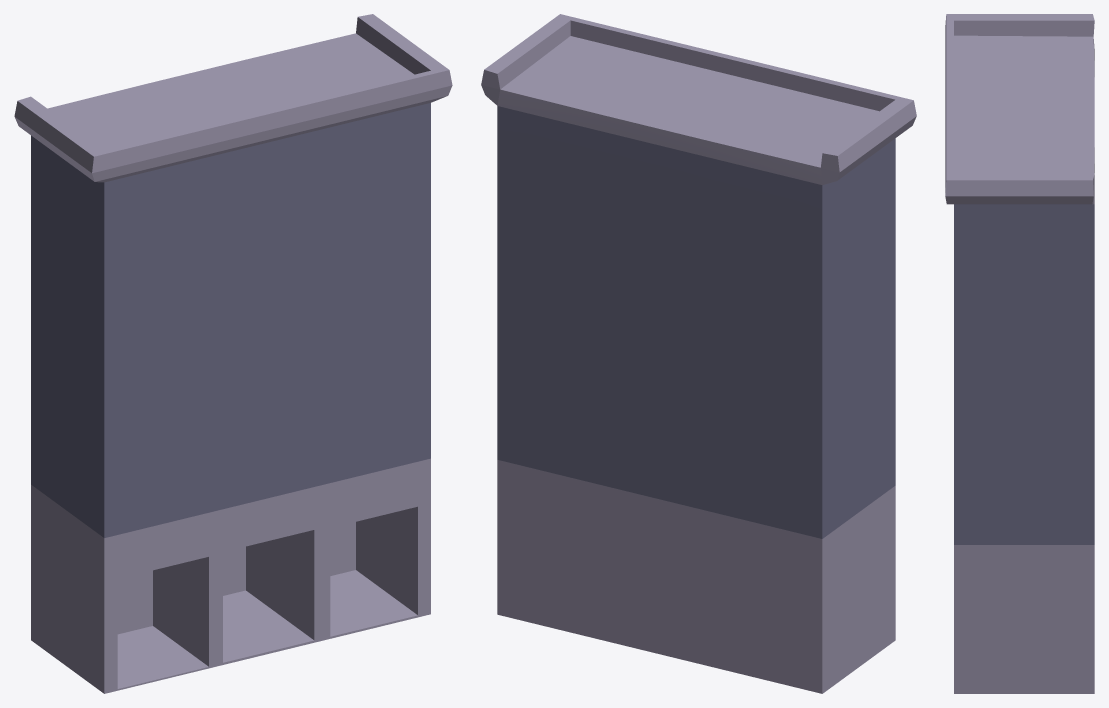
The model's file is builidng_base.fbx.
The picture shows the model from 3 angles, left to right: view 1: azimuth 30°, elevation 25°; view 2: azimuth 150°, elevation 25°; view 3: azimuth 270°, elevation 25°; orthographic projection. The views are drawn at different scales.
Visible parts, largest first — view 1: building3; view 2: building3; view 3: building3.
Boxes of the visible parts, box(x1,y1,x2,y2) form: building3: box(14, 14, 452, 693); building3: box(481, 14, 916, 693); building3: box(945, 14, 1094, 693).
Bounding box in the file's own units: 8.89 × 12.81 × 3.33.
